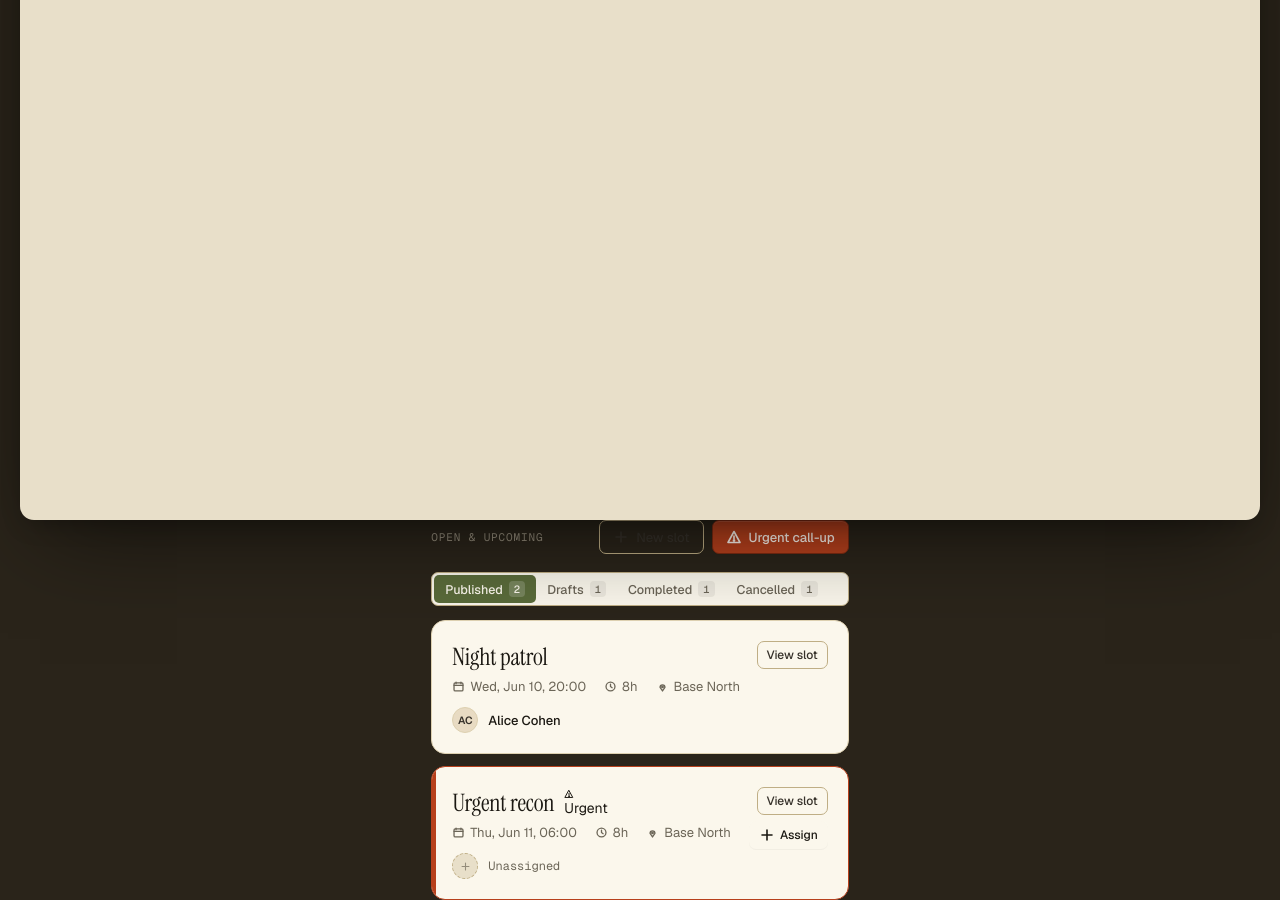
Test case: SlotsScreen › toggling Cancelled chip on reveals cancelled slots
(page scrolled)
Click the button "Cancelled 1" at (777,589), box [726,575,828,603]
(page scrolled)
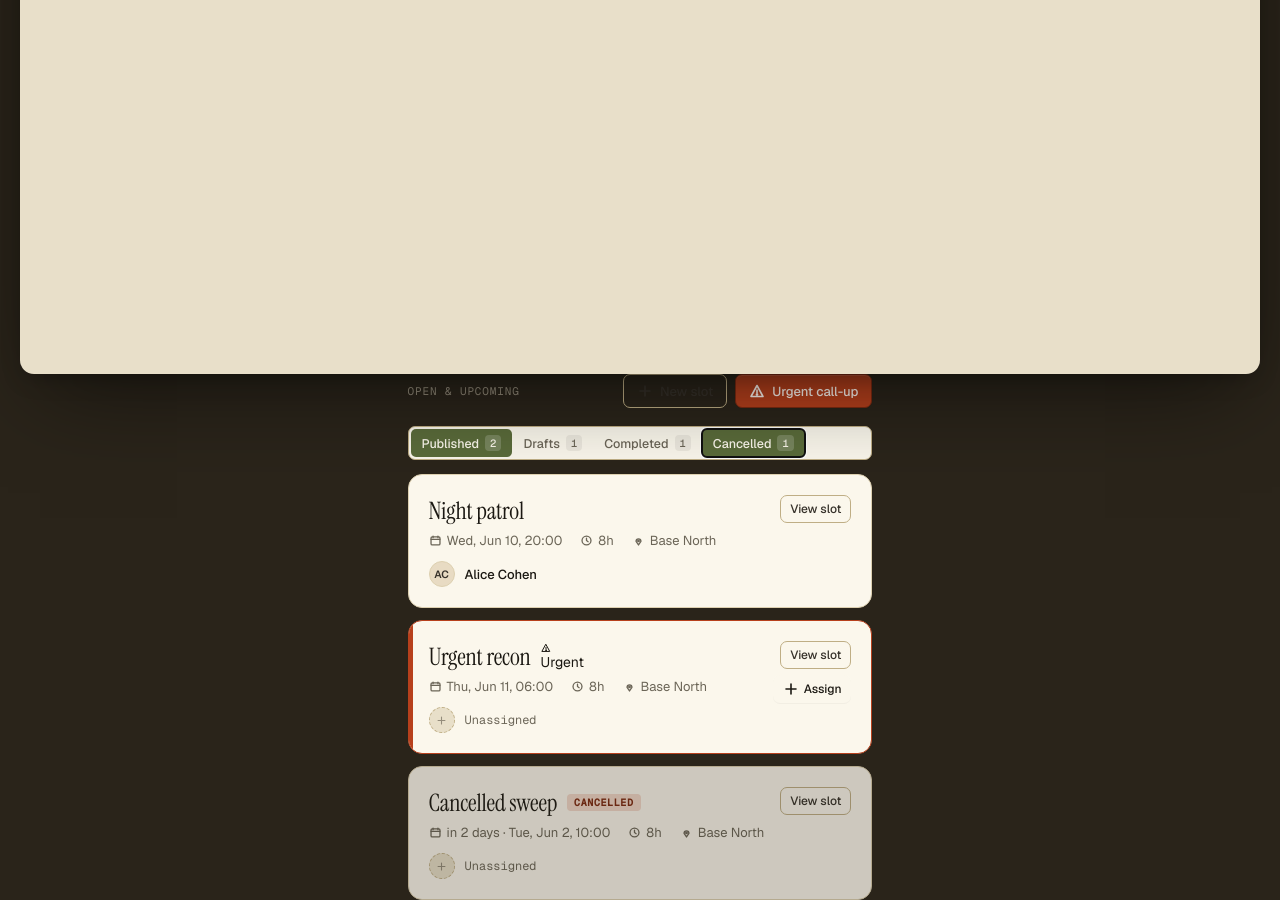
Expected: the heading "Cancelled sweep" is shown, [428,787,557,818]
